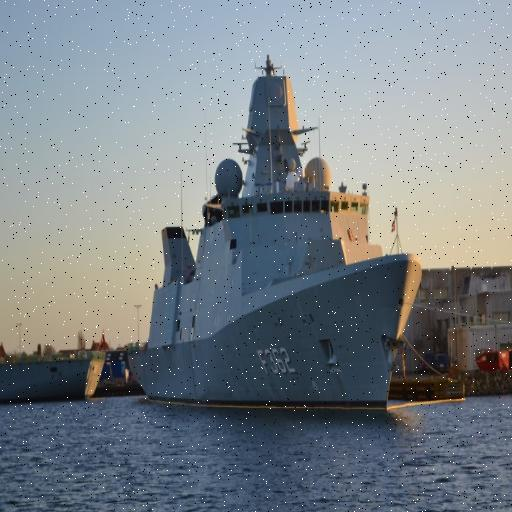Fragata: (122, 49, 428, 415)
